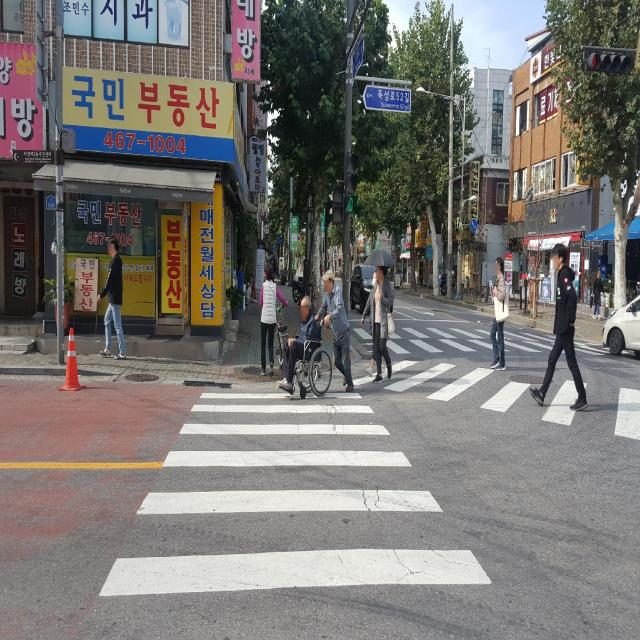초록불: (347, 187, 358, 215)
횡단보도: (98, 391, 494, 599), (360, 315, 640, 443)
